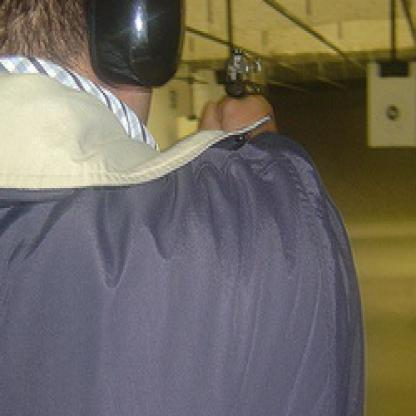gun: (213, 49, 256, 95)
